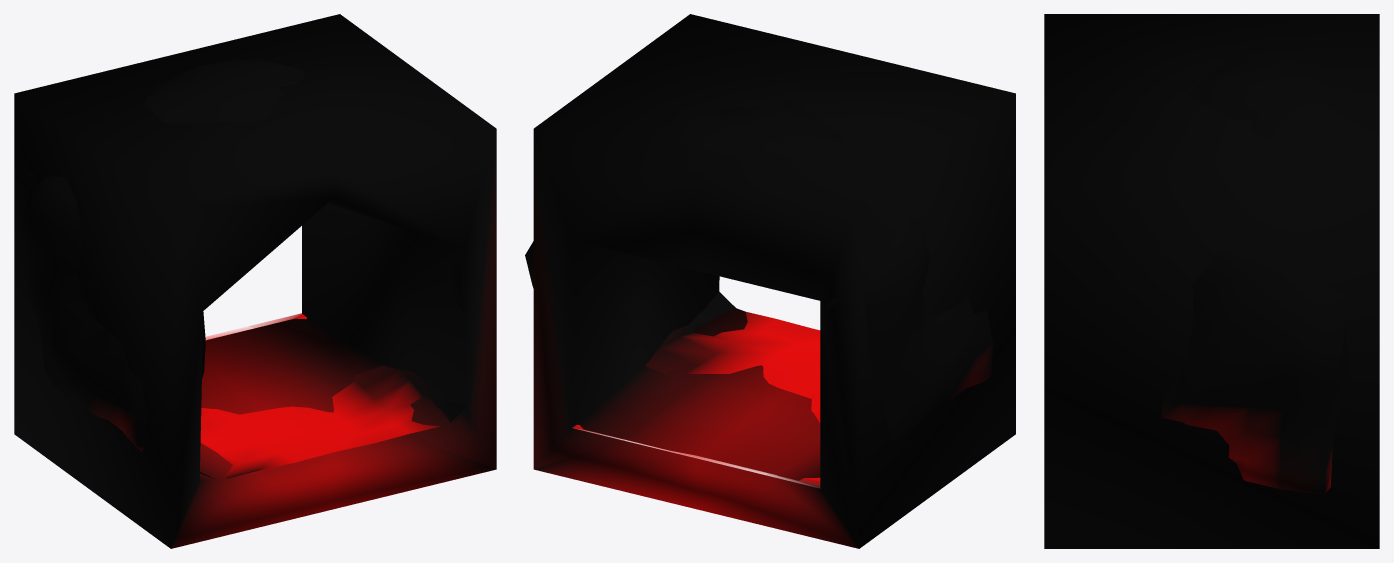
Rendered from JD_Cave_A_Tunnel_x6_Doorway_02.fbx.
3 renders of one model, left to right at view 1: azimuth 30°, elevation 25°; view 2: azimuth 150°, elevation 25°; view 3: azimuth 270°, elevation 25°, orthographic. The views are drawn at different scales.
Parts seen in each view (by area): view 1: C_JD_Cave_A_Tunnel_x6_Doorway_02, JD_Cave_A_Tunnel_x6_Doorway_02; view 2: C_JD_Cave_A_Tunnel_x6_Doorway_02, JD_Cave_A_Tunnel_x6_Doorway_02; view 3: C_JD_Cave_A_Tunnel_x6_Doorway_02, JD_Cave_A_Tunnel_x6_Doorway_02.
Boxes of the visible parts, x1,y1,x2,y2 form: C_JD_Cave_A_Tunnel_x6_Doorway_02: [14, 14, 496, 548]; JD_Cave_A_Tunnel_x6_Doorway_02: [15, 59, 467, 479]; C_JD_Cave_A_Tunnel_x6_Doorway_02: [533, 14, 1015, 548]; JD_Cave_A_Tunnel_x6_Doorway_02: [525, 101, 992, 488]; C_JD_Cave_A_Tunnel_x6_Doorway_02: [1044, 14, 1379, 548]; JD_Cave_A_Tunnel_x6_Doorway_02: [1161, 56, 1348, 494].
Bounding box in the file's own units: 6.99 × 6.28 × 5.
